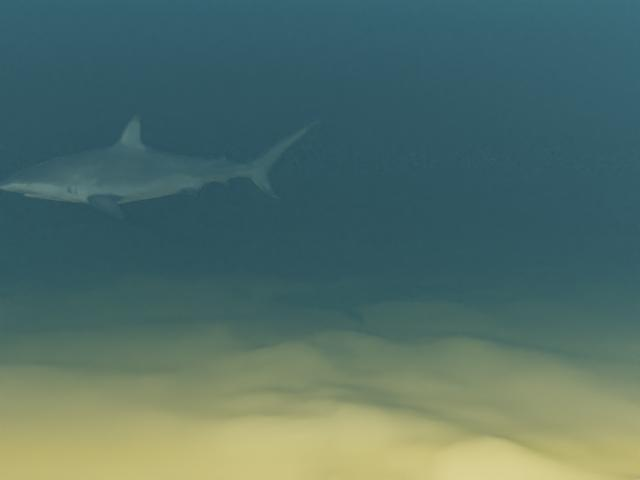Carribean Shark.001: (0, 113, 320, 217)
